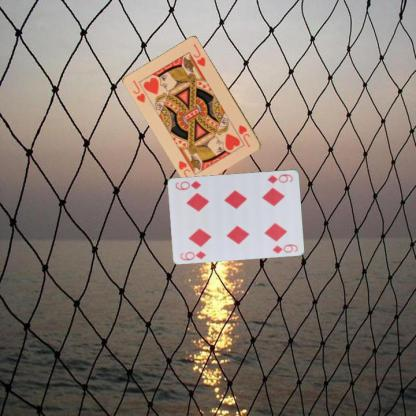6d: (265, 171, 294, 184), (178, 248, 207, 261)
Jh: (130, 77, 147, 104), (236, 122, 252, 148)
